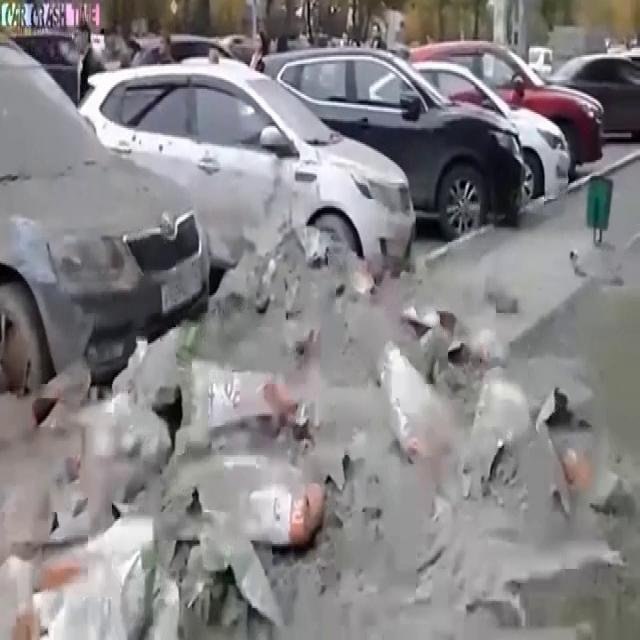accident: (0, 169, 400, 389)
